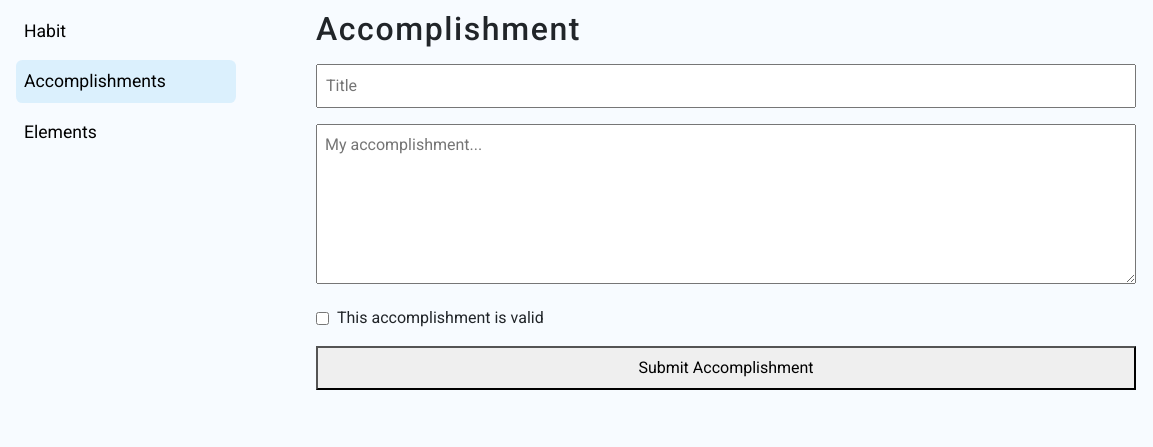
accomplishments dashboard › should showcase error if information is missing
The image size is (1153, 447).
Step 1. Type "My baskettball accomplishments" into the field with test id "accomplishment-title-input" → (726, 86), box left=316, top=64, right=1136, bottom=108
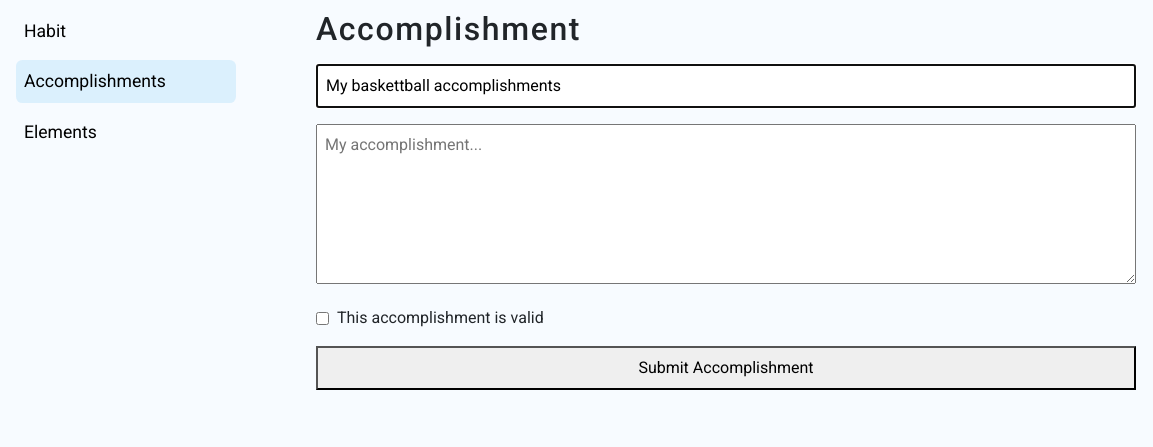
Step 2. Type "I made 10 threes in a row" into the text box with test id "accomplishment-input" → (726, 204), box left=316, top=124, right=1136, bottom=284
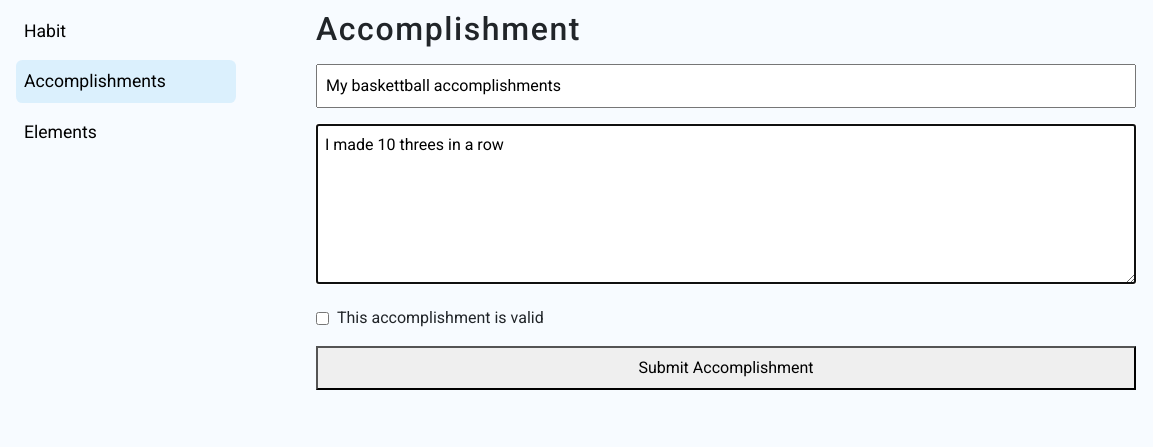
Step 3. Click the button with class "Accomplishment-btn" → click(726, 368), box left=316, top=346, right=1136, bottom=390
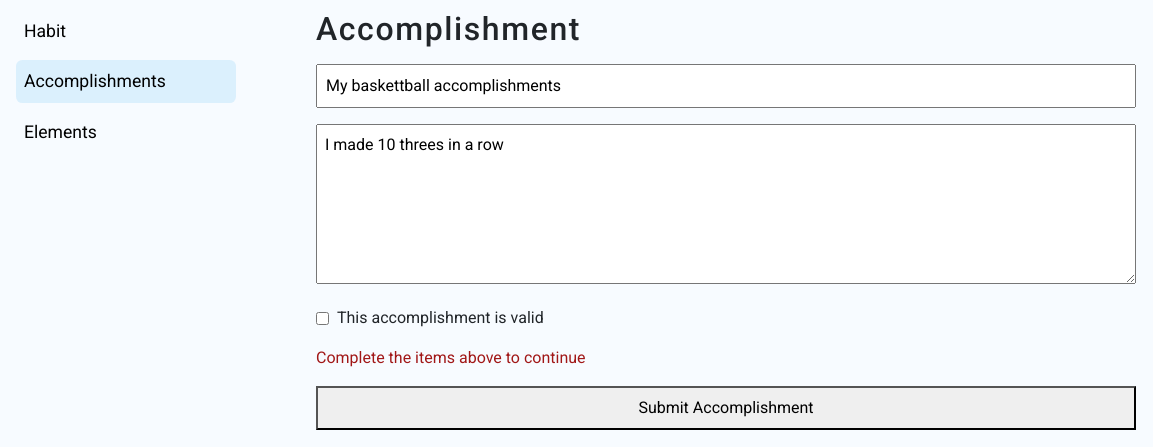
Expected: the text "Complete the items above to continue" is shown, left=316, top=348, right=586, bottom=367
